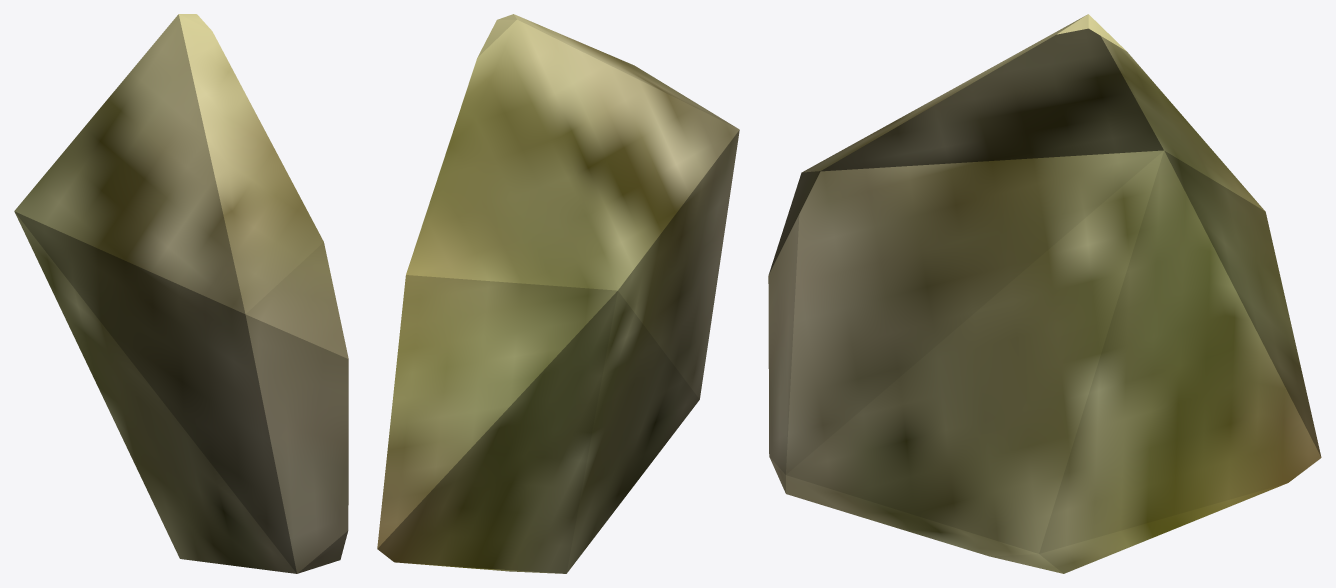
3 renders of one model, left to right at view 1: azimuth 30°, elevation 25°; view 2: azimuth 150°, elevation 25°; view 3: azimuth 270°, elevation 25°, orthographic. The views are drawn at different scales.
Size of the model in its own units: 0.0579 by 0.1964 by 0.1785.
Materials: 1 (1 with a texture image).
